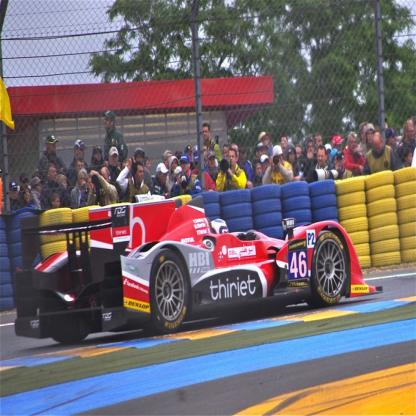Car: (14, 193, 384, 326)
